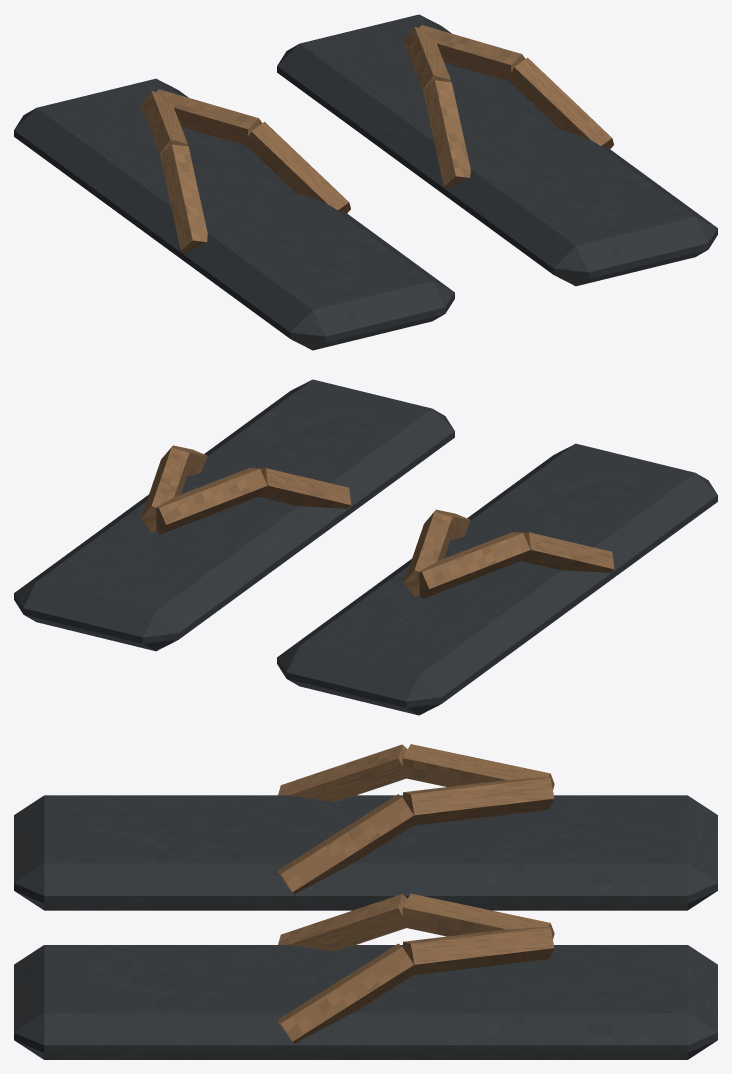
The model's file is flip_flops_exp.glb.
3 views of the same model, one above another, from view 1: azimuth 30°, elevation 25°; view 2: azimuth 150°, elevation 25°; view 3: azimuth 270°, elevation 25° (orthographic). The views are drawn at different scales.
Visible parts, largest first — view 1: block_shaped sole (×2), block_thong strap 3 (×2), block_thong strap 0 (×2), block_thong strap 2 (×2), block_thong strap 1 (×2); view 2: block_shaped sole (×2), block_thong strap 1 (×2), block_thong strap 0 (×2), block_thong strap 2 (×2); view 3: block_shaped sole (×2), block_thong strap 2 (×2), block_thong strap 3 (×2), block_thong strap 0 (×2), block_thong strap 1 (×2).
Part boxes in pixels (x1=…): block_shaped sole (×2): x1=14, y1=14, x2=717, y2=350; block_thong strap 3 (×2): x1=247, y1=57, x2=613, y2=213; block_thong strap 0 (×2): x1=160, y1=80, x2=470, y2=253; block_thong strap 2 (×2): x1=148, y1=25, x2=525, y2=145; block_thong strap 1 (×2): x1=140, y1=27, x2=450, y2=154; block_shaped sole (×2): x1=14, y1=379, x2=717, y2=715; block_thong strap 1 (×2): x1=148, y1=468, x2=530, y2=598; block_thong strap 0 (×2): x1=252, y1=467, x2=614, y2=572; block_thong strap 2 (×2): x1=141, y1=447, x2=452, y2=596; block_shaped sole (×2): x1=14, y1=795, x2=717, y2=1059; block_thong strap 2 (×2): x1=402, y1=777, x2=554, y2=974; block_thong strap 3 (×2): x1=277, y1=794, x2=414, y2=1044; block_thong strap 0 (×2): x1=278, y1=744, x2=407, y2=951; block_thong strap 1 (×2): x1=402, y1=744, x2=554, y2=956.
Size of the model in its own units: 0.1513 by 0.0306 by 0.1827.
1 material, 1 textured.
